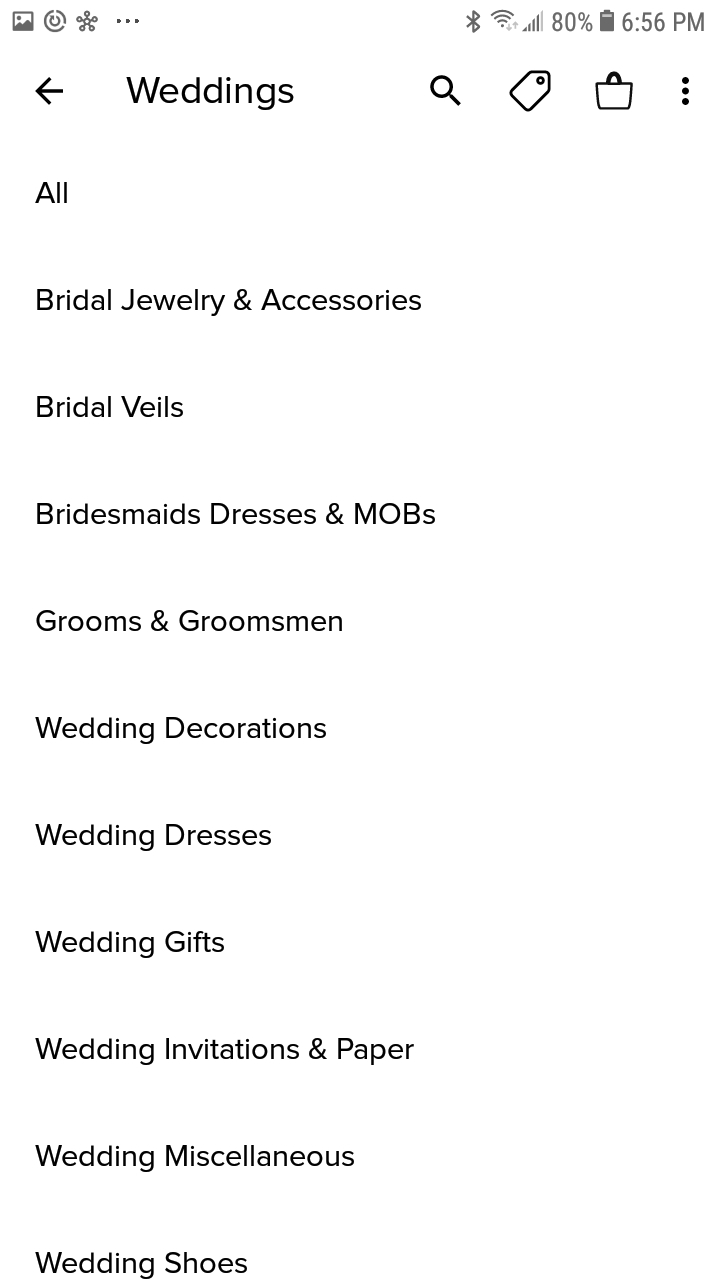Icon: (509, 70, 552, 113), (595, 72, 634, 112), (430, 75, 462, 108), (36, 78, 65, 107), (681, 77, 690, 107)
Text: (37, 289, 422, 318), (35, 1037, 415, 1066), (35, 1144, 355, 1173), (37, 502, 436, 525), (35, 717, 327, 745), (36, 609, 343, 632), (35, 824, 272, 852), (35, 1251, 248, 1280), (126, 77, 294, 112), (35, 930, 225, 959), (38, 396, 185, 419), (36, 183, 69, 205)
UpperTaskBar: (1, 1, 720, 35)
